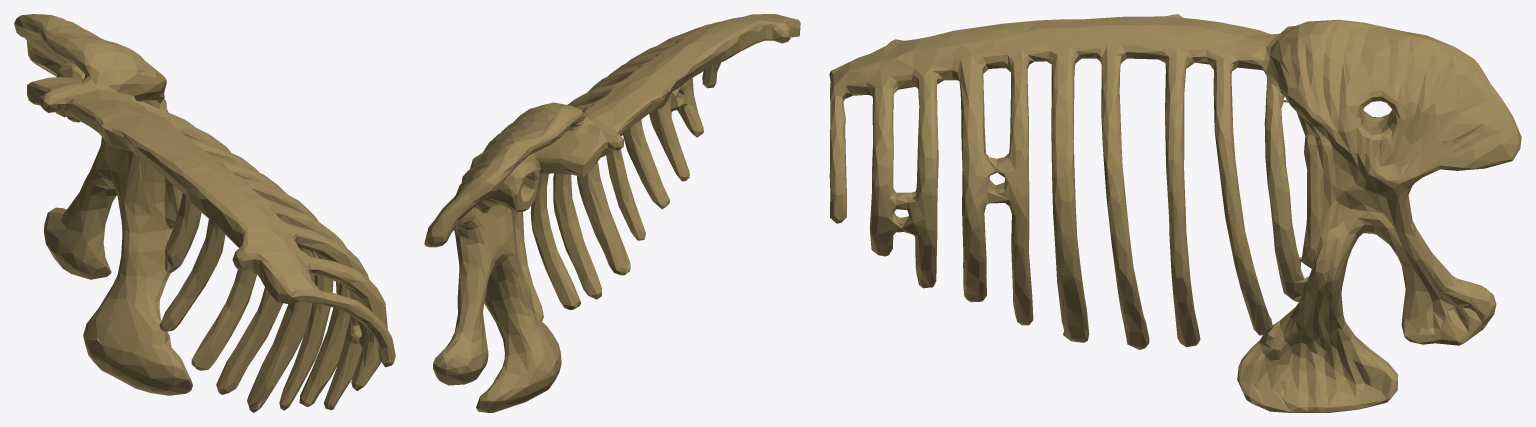
File: bone5.glb
3 views of the same model, side by side, from view 1: azimuth 30°, elevation 25°; view 2: azimuth 150°, elevation 25°; view 3: azimuth 270°, elevation 25° (orthographic). The views are drawn at different scales.
Parts seen in each view (by area): view 1: tripo_node_b434d008-9895-464f-bb88-9cc762a92b76; view 2: tripo_node_b434d008-9895-464f-bb88-9cc762a92b76; view 3: tripo_node_b434d008-9895-464f-bb88-9cc762a92b76.
Boxes of the visible parts, x1,y1,x2,y2 form: tripo_node_b434d008-9895-464f-bb88-9cc762a92b76: [14, 14, 395, 412]; tripo_node_b434d008-9895-464f-bb88-9cc762a92b76: [424, 14, 800, 412]; tripo_node_b434d008-9895-464f-bb88-9cc762a92b76: [829, 14, 1521, 412].
Size of the model in its own units: 0.2714 by 0.5557 by 0.9804.
Materials: 1 (1 with a texture image).
